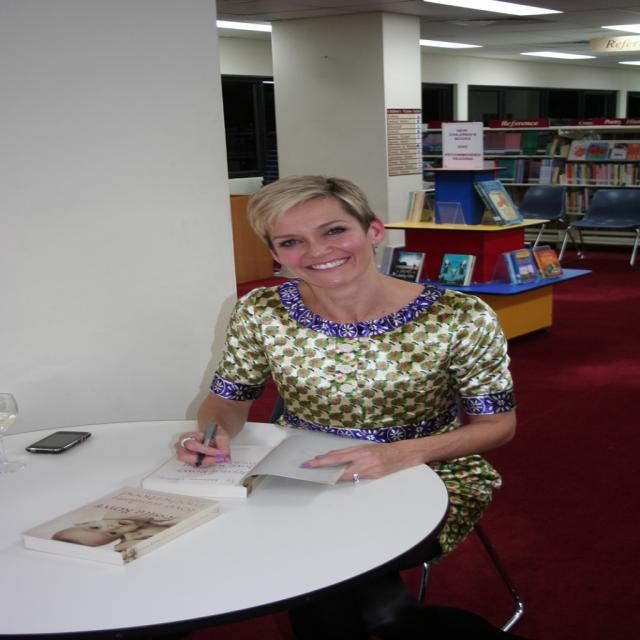chair: (559, 188, 639, 267), (518, 186, 567, 253)
desk: (35, 398, 446, 638)
person: (168, 175, 516, 608)
